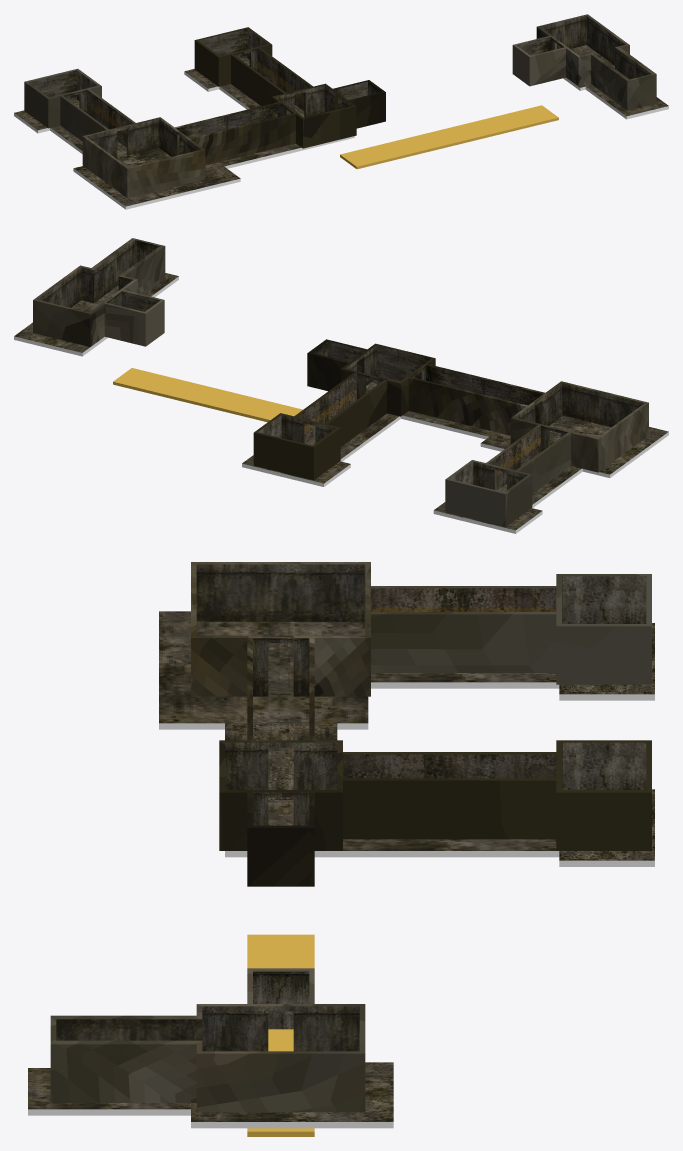
The model's file is sewer.glb.
3 views of the same model, one above another, from view 1: azimuth 30°, elevation 25°; view 2: azimuth 150°, elevation 25°; view 3: azimuth 270°, elevation 25° (orthographic). The views are drawn at different scales.
Visible parts, largest first — view 1: wall_L0, floor_L0, floor_L1; view 2: wall_L0, floor_L0, floor_L1; view 3: wall_L0, floor_L0, floor_L1.
Boxes of the visible parts, x1,y1,x2,y2 form: wall_L0: (24, 14, 656, 198); floor_L0: (14, 45, 668, 209); floor_L1: (340, 105, 558, 169); wall_L0: (33, 238, 648, 526); floor_L0: (14, 273, 668, 533); floor_L1: (113, 368, 302, 422); wall_L0: (50, 562, 651, 1112); floor_L0: (28, 611, 654, 1128); floor_L1: (247, 934, 314, 1136).
Size of the model in its own units: 43.01 by 5.5 by 22.3.
3 materials, 2 textured.
